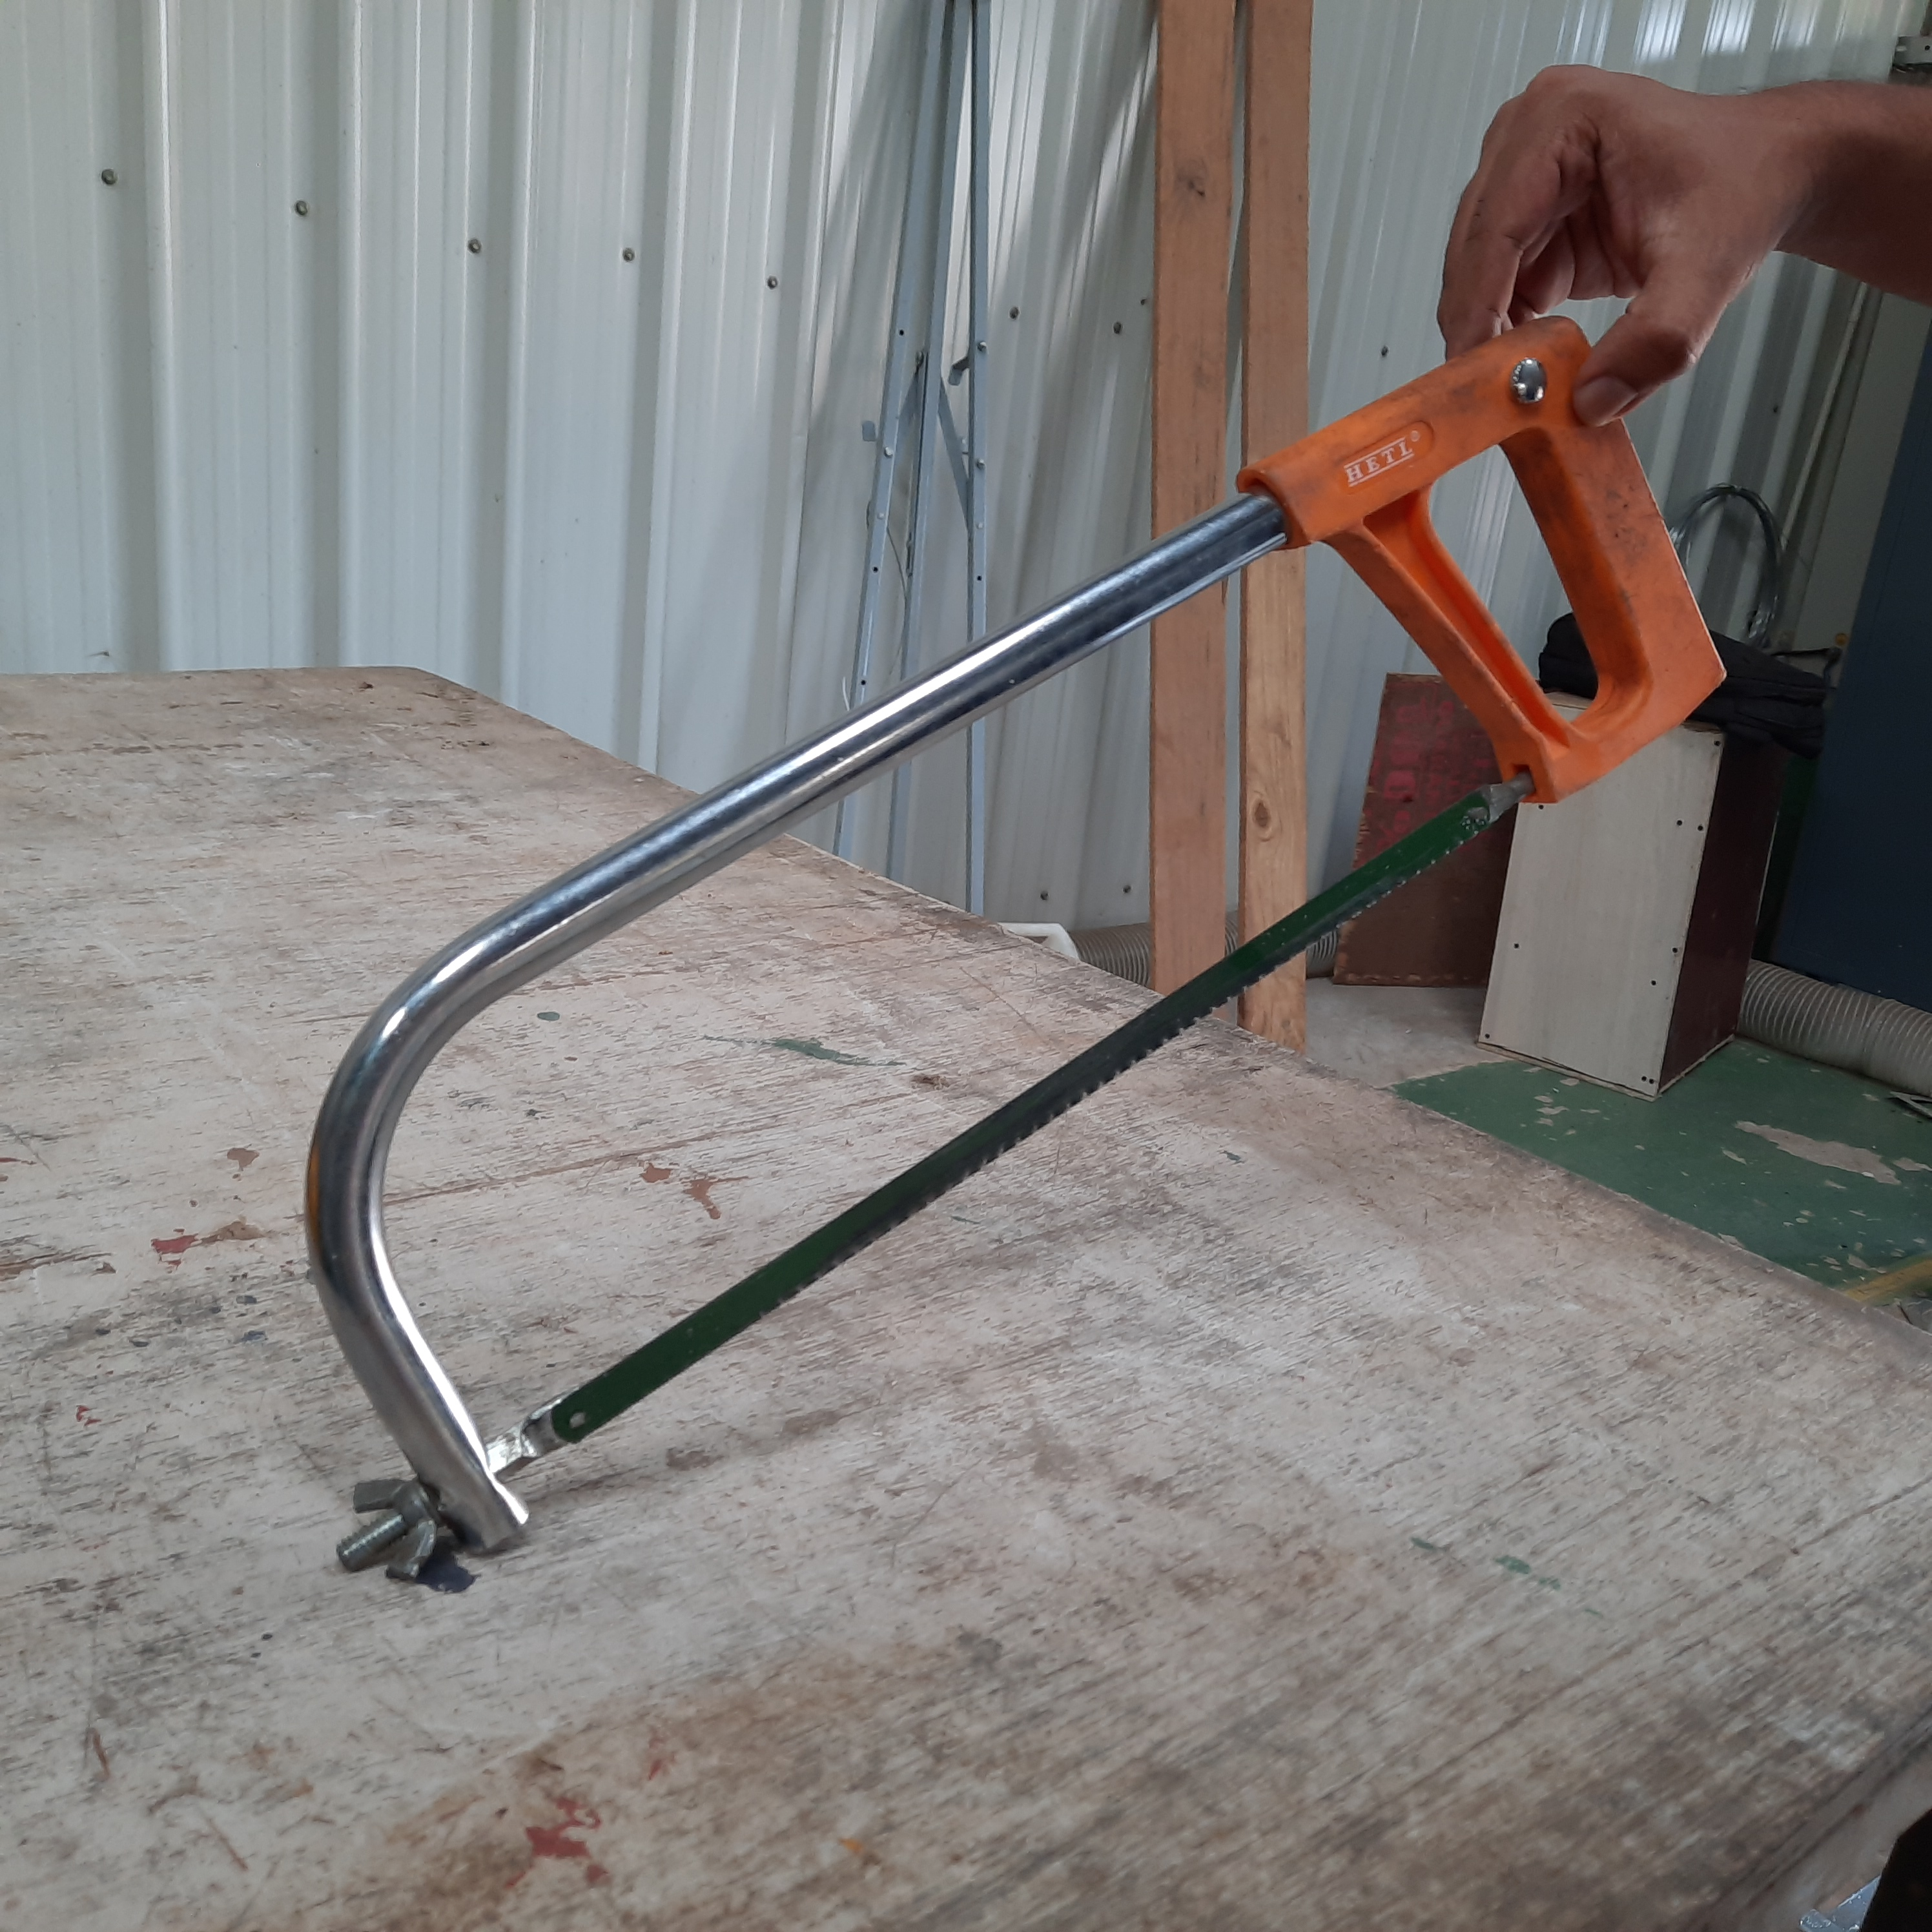Hexaframe: (239, 308, 1767, 1615)
